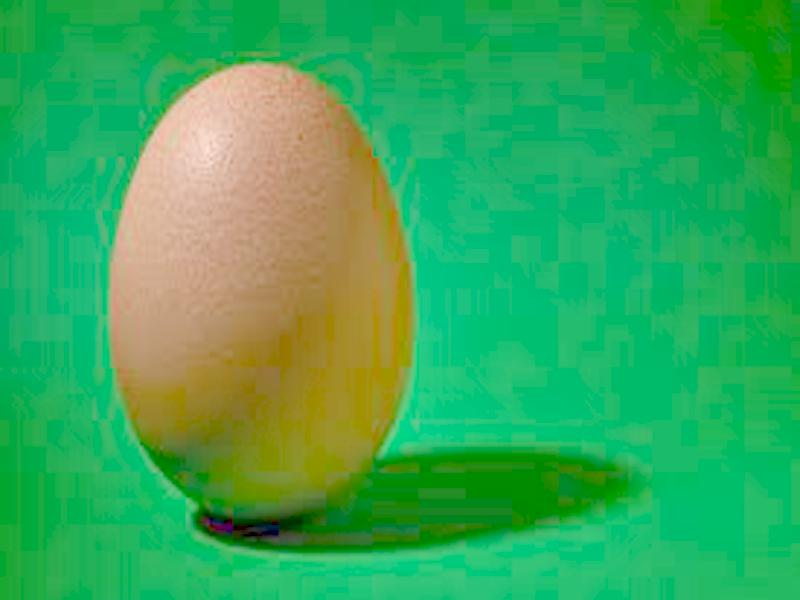Eggs: (108, 66, 413, 521)
